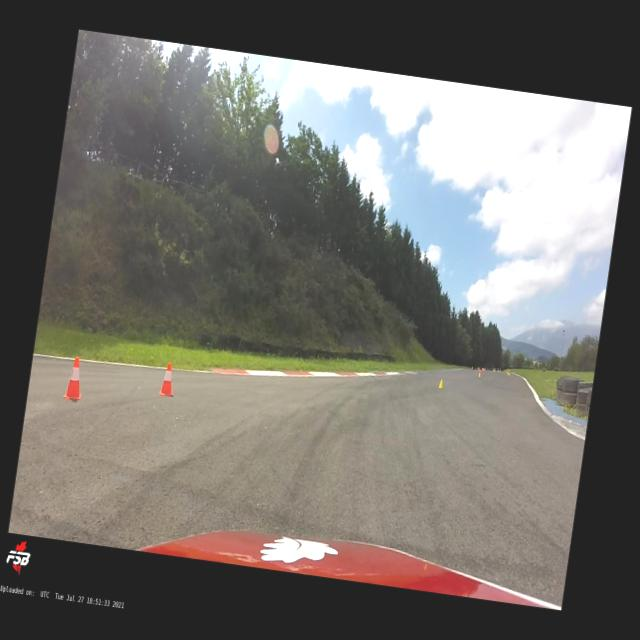orange_cone: (64, 357, 86, 400), (158, 362, 178, 397)
yellow_cone: (439, 378, 444, 388), (478, 370, 482, 378)
